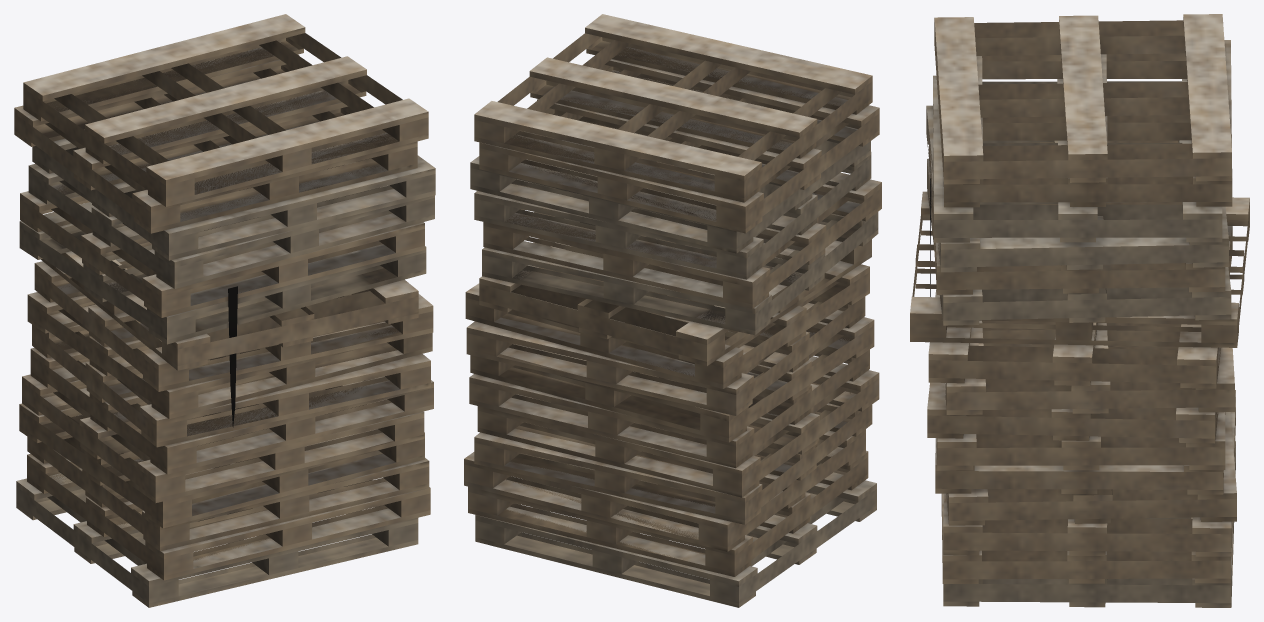
File: pallet_tower.fbx
3 views of the same model, side by side, from view 1: azimuth 30°, elevation 25°; view 2: azimuth 150°, elevation 25°; view 3: azimuth 270°, elevation 25° (orthographic). The views are drawn at different scales.
Visible parts, largest first — view 1: Body; view 2: Body; view 3: Body.
Boxes of the visible parts, x1,y1,x2,y2 form: Body: (14,14,435,607); Body: (464,14,881,607); Body: (910,14,1249,607).
Bounding box in the file's own units: 5.43 × 7.68 × 5.19.
Materials: 1 (1 with a texture image).
